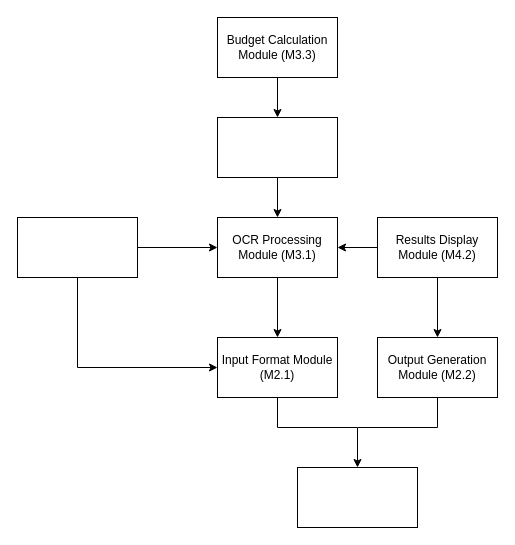
Some shapes in this 515 by 545 pixel diagram are drawn without their labels. Here are the shapes that lost their labels. From the top down, the box of each, then its label:
(216, 116, 338, 178): Machine Learning Module (M3.2)
(16, 216, 138, 278): Upload Interface Module (M4.1)
(296, 466, 418, 528): Hardware Hiding Module (M1)
